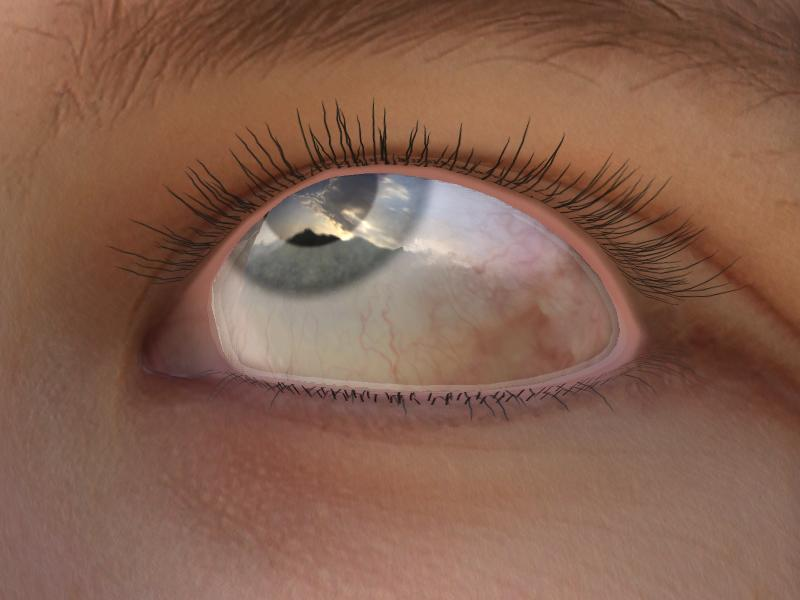eye: (226, 170, 438, 293)
